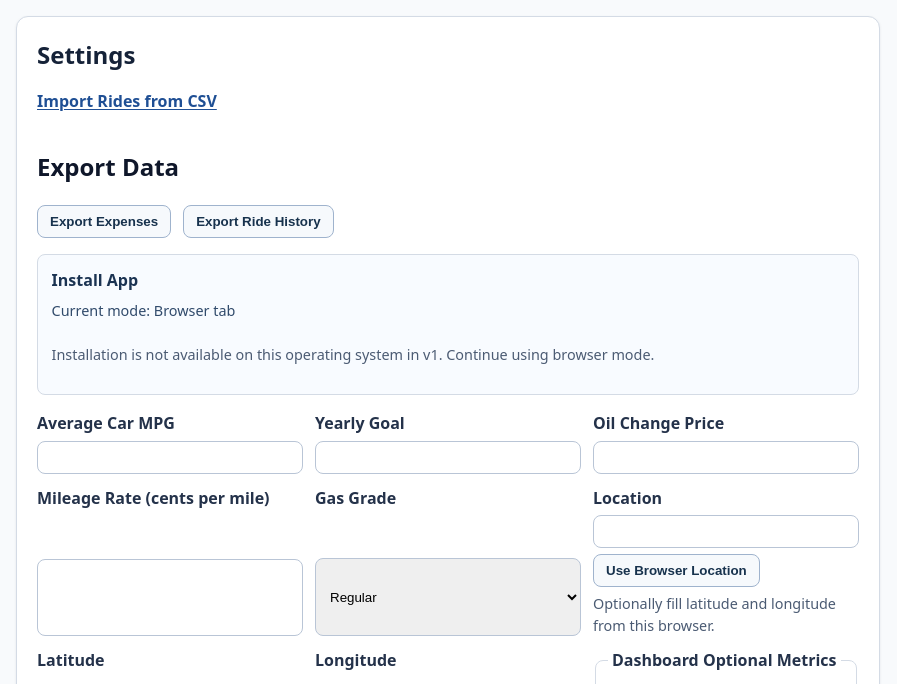
Test: SettingsPage › shows an error when browser location lookup fails
This screenshot has width=897, height=684.
Click the button "Use Browser Location". click: [676, 570]
box: [593, 554, 760, 587]
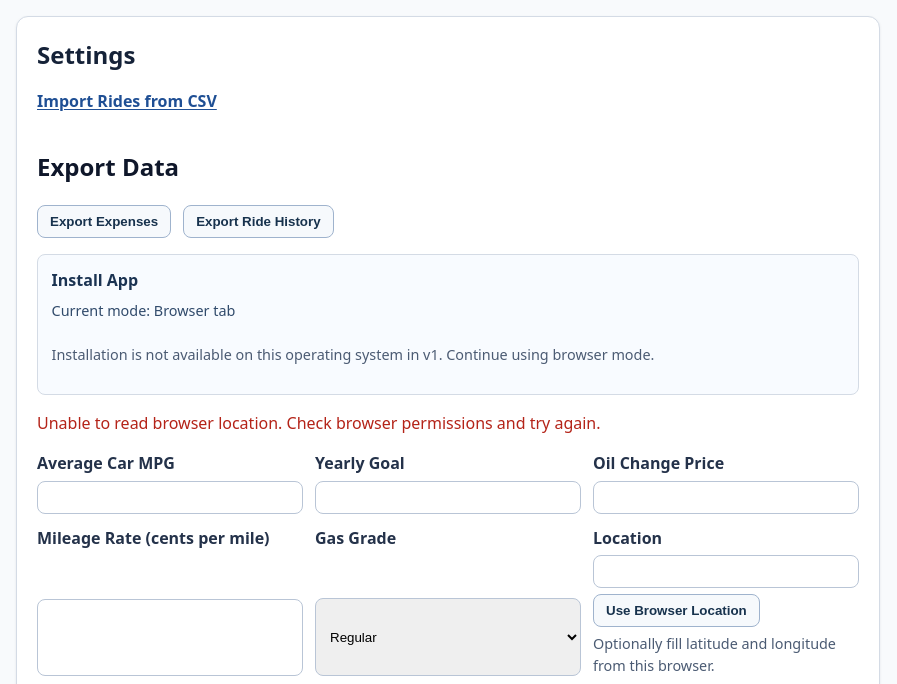
Result: the message "Unable to read browser location. Check browser permissions and try again." is shown at [37, 412, 600, 434]
